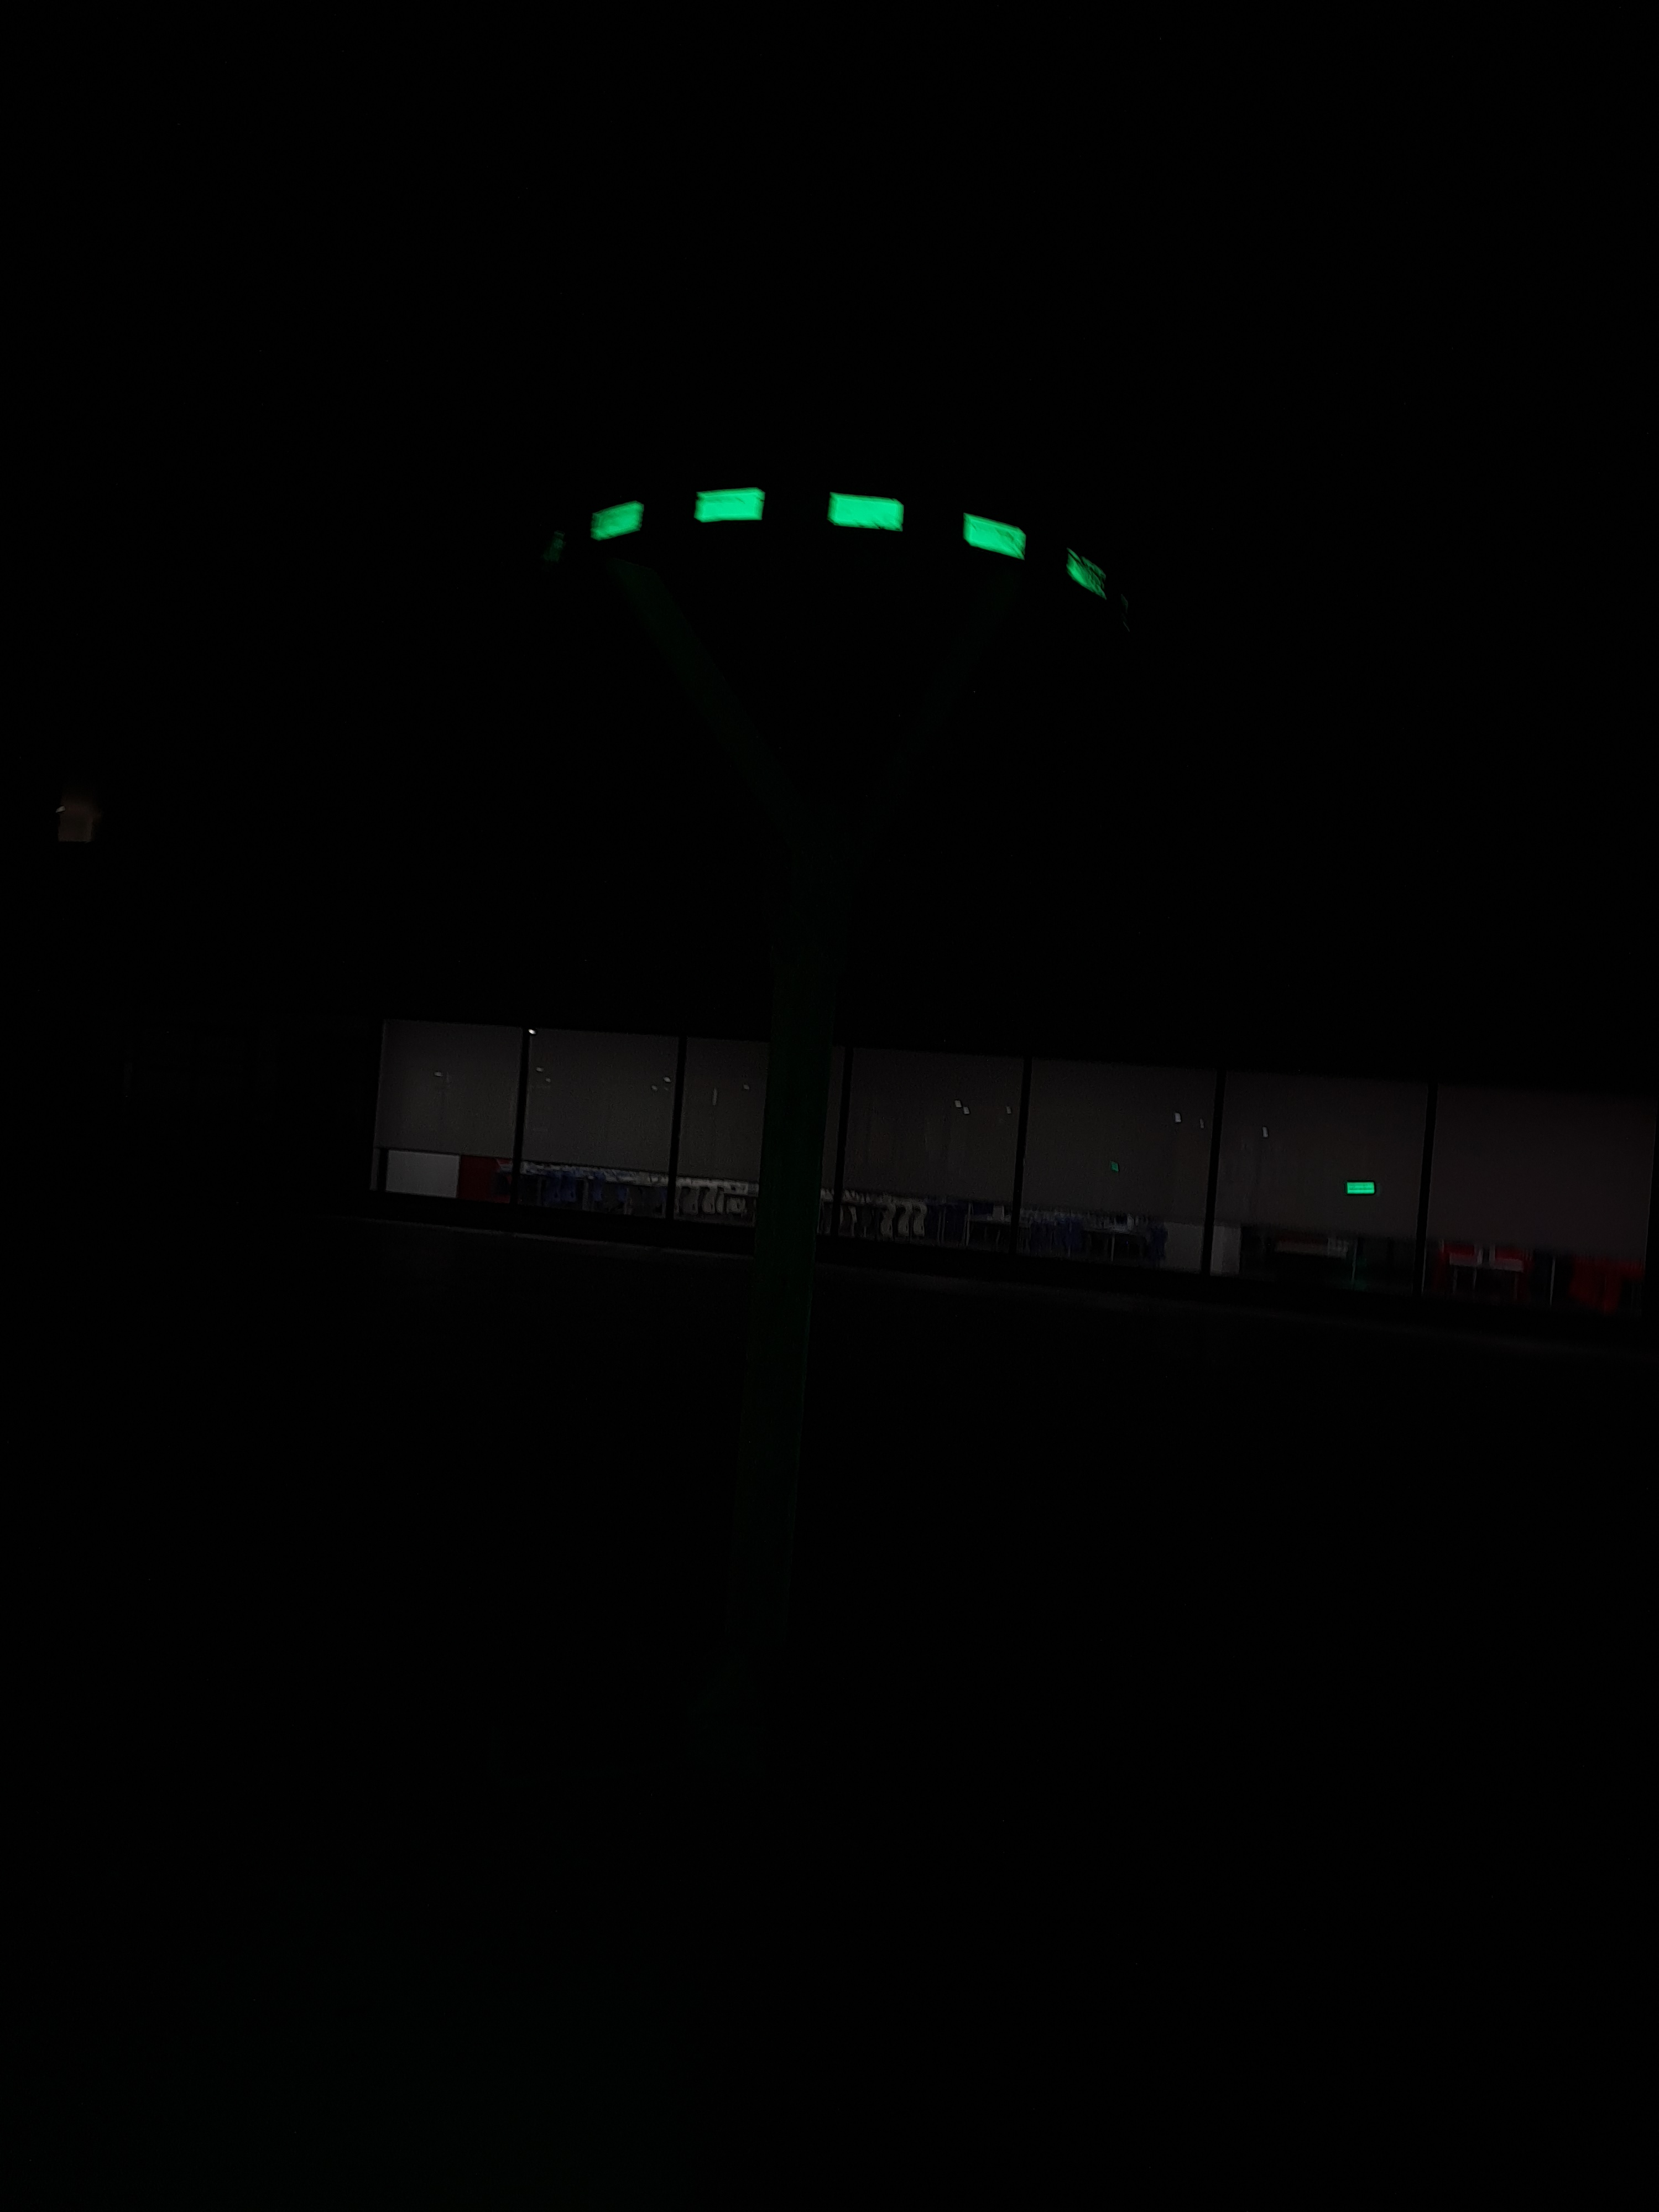hoop: (582, 477, 1117, 604)
